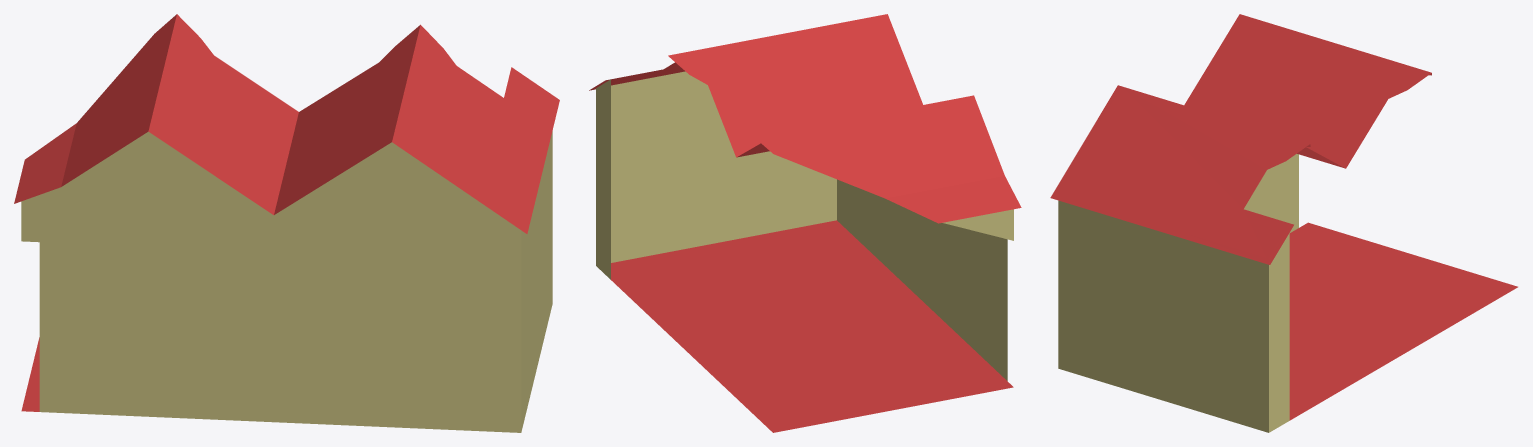
3 renders of one model, left to right at view 1: azimuth 30°, elevation 25°; view 2: azimuth 150°, elevation 25°; view 3: azimuth 270°, elevation 25°, orthographic. The views are drawn at different scales.
Bounding box in the file's own units: 22.48 × 20.5 × 11.8.
